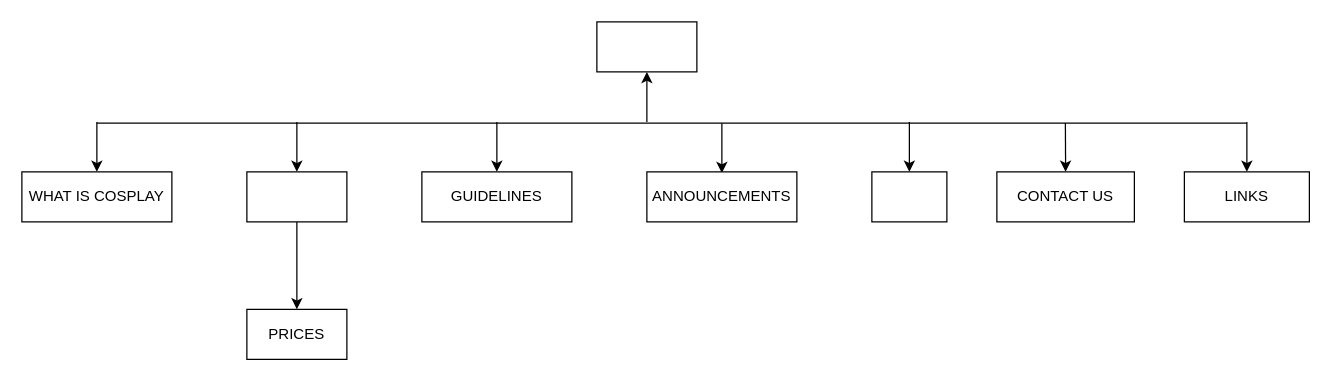
The diagram is 1331 pixels wide and 381 high, and some of its shapes have lost their labels. The centre of each missing label's shape, as x and y in pixels:
"ABOUT" belongs at pixel 296 196.
"HOME" belongs at pixel 646 46.
"SIGN UP" belongs at pixel 909 196.
